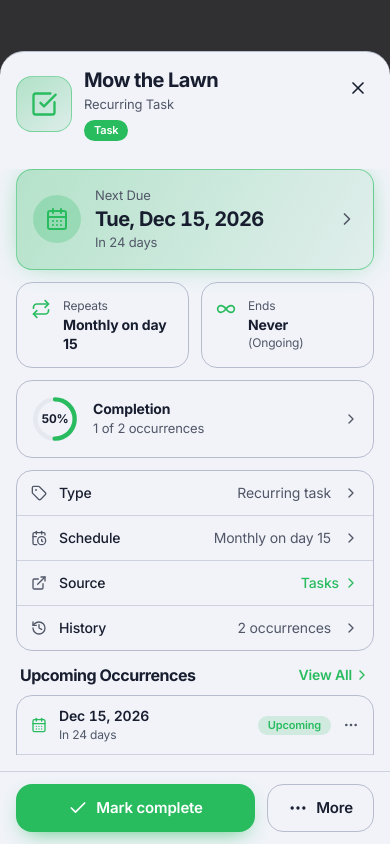
Test: a recurring task: one date at a time › Change date moves only the chosen occurrence
Later steps or results of the test are not shown.
Click the button with test id "cal-view-all". click: {"x": 334, "y": 675}
box: [299,665,370,685]
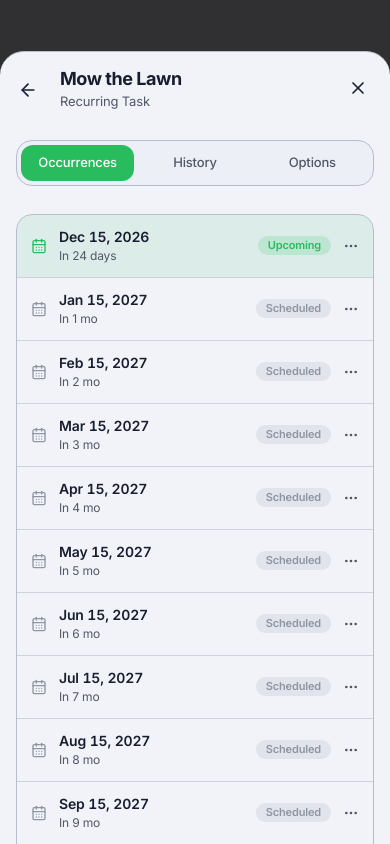
Click the button with test id "cal-occ-2026-12-15". click: {"x": 104, "y": 236}
box: [17,215,373,277]
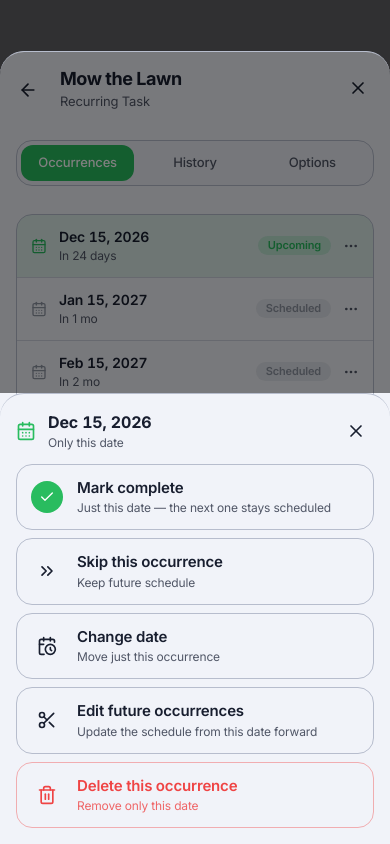
Click the button with test id "cal-menu-move". click: {"x": 122, "y": 636}
box: [16,612,374,679]
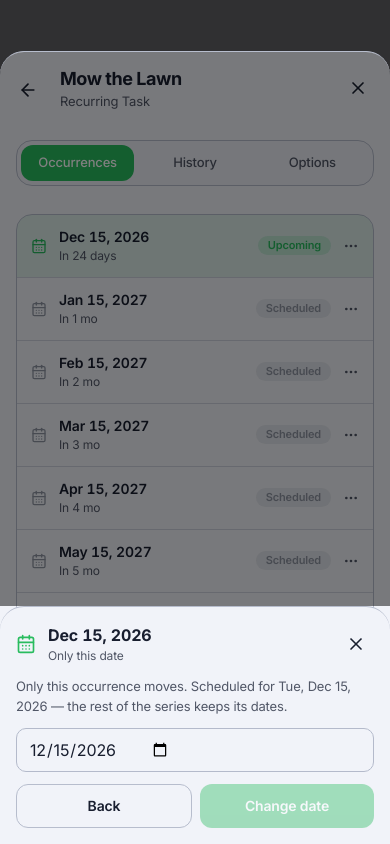
Check: the button with test id "cal-move-confirm" is disabled, box [200,784,374,828]
